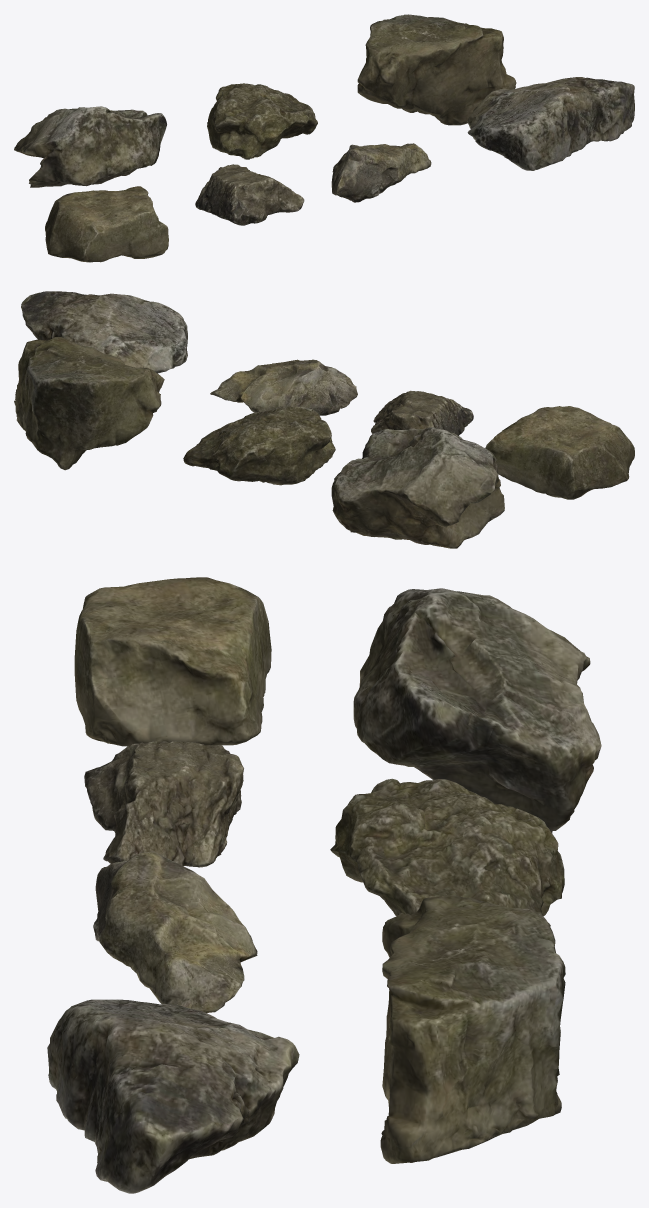
Rendered from rock_moss_set_02.glb.
The picture shows the model from 3 angles, top to bottom: view 1: azimuth 30°, elevation 25°; view 2: azimuth 150°, elevation 25°; view 3: azimuth 270°, elevation 25°; orthographic projection. The views are drawn at different scales.
Visible parts, largest first — view 1: rock_moss_set_02_rock13, rock_moss_set_02_rock10, rock_moss_set_02_rock11, rock_moss_set_02_rock07, rock_moss_set_02_rock12, rock_moss_set_02_rock08, rock_moss_set_02_rock09; view 2: rock_moss_set_02_rock11, rock_moss_set_02_rock13, rock_moss_set_02_rock07, rock_moss_set_02_rock10, rock_moss_set_02_rock12, rock_moss_set_02_rock09, rock_moss_set_02_rock08; view 3: rock_moss_set_02_rock13, rock_moss_set_02_rock11, rock_moss_set_02_rock10, rock_moss_set_02_rock07, rock_moss_set_02_rock12, rock_moss_set_02_rock09, rock_moss_set_02_rock08.
Part boxes in pixels (left/top/right/bottom): rock_moss_set_02_rock13: left=357, top=14, right=516, bottom=125; rock_moss_set_02_rock10: left=467, top=77, right=634, bottom=170; rock_moss_set_02_rock11: left=14, top=106, right=166, bottom=187; rock_moss_set_02_rock07: left=45, top=186, right=168, bottom=262; rock_moss_set_02_rock12: left=207, top=83, right=317, bottom=159; rock_moss_set_02_rock08: left=195, top=164, right=304, bottom=225; rock_moss_set_02_rock09: left=331, top=143, right=431, bottom=202; rock_moss_set_02_rock11: left=331, top=427, right=504, bottom=548; rock_moss_set_02_rock13: left=14, top=337, right=164, bottom=470; rock_moss_set_02_rock07: left=485, top=406, right=634, bottom=499; rock_moss_set_02_rock10: left=21, top=291, right=187, bottom=373; rock_moss_set_02_rock12: left=183, top=406, right=335, bottom=485; rock_moss_set_02_rock09: left=210, top=359, right=357, bottom=415; rock_moss_set_02_rock08: left=371, top=390, right=473, bottom=435; rock_moss_set_02_rock13: left=380, top=895, right=565, bottom=1163; rock_moss_set_02_rock11: left=353, top=588, right=601, bottom=833; rock_moss_set_02_rock10: left=47, top=999, right=299, bottom=1193; rock_moss_set_02_rock07: left=74, top=577, right=271, bottom=746; rock_moss_set_02_rock12: left=330, top=778, right=564, bottom=926; rock_moss_set_02_rock09: left=93, top=851, right=257, bottom=1012; rock_moss_set_02_rock08: left=84, top=741, right=243, bottom=867.
Size of the model in its own units: 8.28 by 1.37 by 3.41.
1 material, 1 textured.
